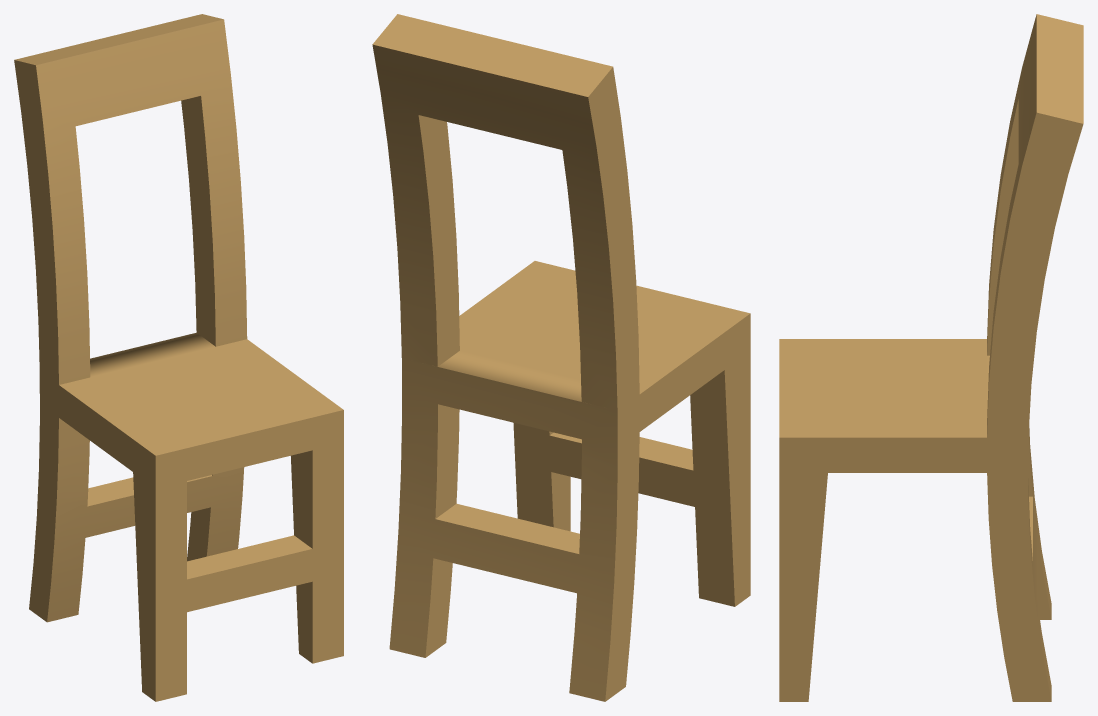
The model's file is chair2.glb.
3 views of the same model, side by side, from view 1: azimuth 30°, elevation 25°; view 2: azimuth 150°, elevation 25°; view 3: azimuth 270°, elevation 25° (orthographic). The views are drawn at different scales.
Parts seen in each view (by area): view 1: node_id31; view 2: node_id31; view 3: node_id31.
Boxes of the visible parts, x1=… form: node_id31: x1=14, y1=14, x2=343, y2=701; node_id31: x1=372, y1=14, x2=750, y2=701; node_id31: x1=779, y1=14, x2=1083, y2=701.
Size of the model in its own units: 0.1836 by 0.512 by 0.2394.
Materials: 1 (1 with a texture image).
